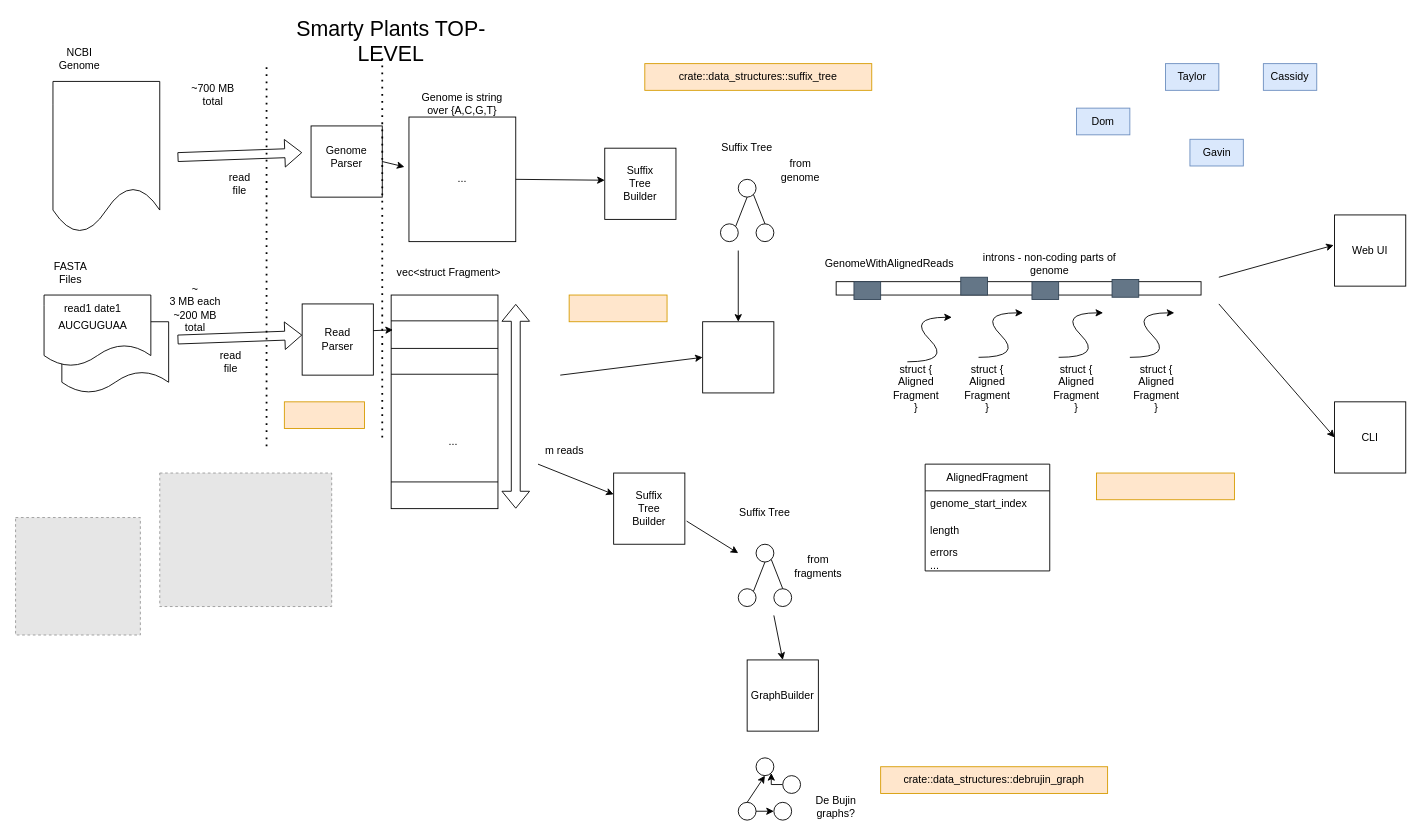
Image size: 1421x836. Some labels were removed from this diagram. Grey dashed boxes stand in for pictures. Each missing label, with the centre of its shape:
"crate::algorithms" goes at point (617, 308).
"crate::data_structures" goes at point (1165, 486).
"crate::file_io" goes at point (323, 415).
"Read Aligner" goes at point (738, 357).
